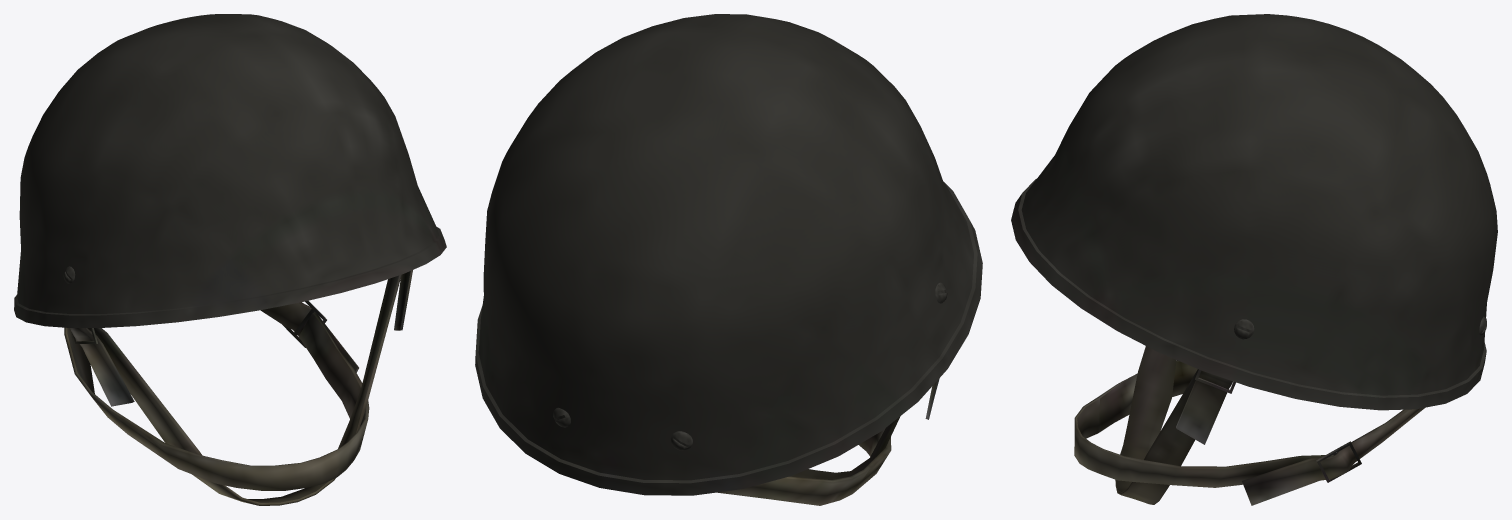
Rendered from hsat_helmet.glb.
The picture shows the model from 3 angles, left to right: view 1: azimuth 30°, elevation 25°; view 2: azimuth 150°, elevation 25°; view 3: azimuth 270°, elevation 25°; orthographic projection. The views are drawn at different scales.
Visible parts, largest first — view 1: Object_2, Object_3; view 2: Object_2, Object_3; view 3: Object_2, Object_3.
Boxes of the visible parts, bbox=[...] form: Object_2: bbox=[14, 14, 446, 327]; Object_3: bbox=[64, 270, 412, 505]; Object_2: bbox=[475, 14, 982, 495]; Object_3: bbox=[717, 378, 939, 505]; Object_2: bbox=[1011, 14, 1497, 410]; Object_3: bbox=[1074, 346, 1424, 505].
Size of the model in its own units: 0.2396 by 0.2632 by 0.254.
2 materials, 2 textured.
